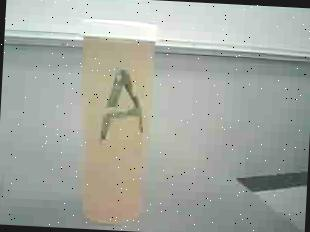Bottle A: (64, 7, 170, 232)
